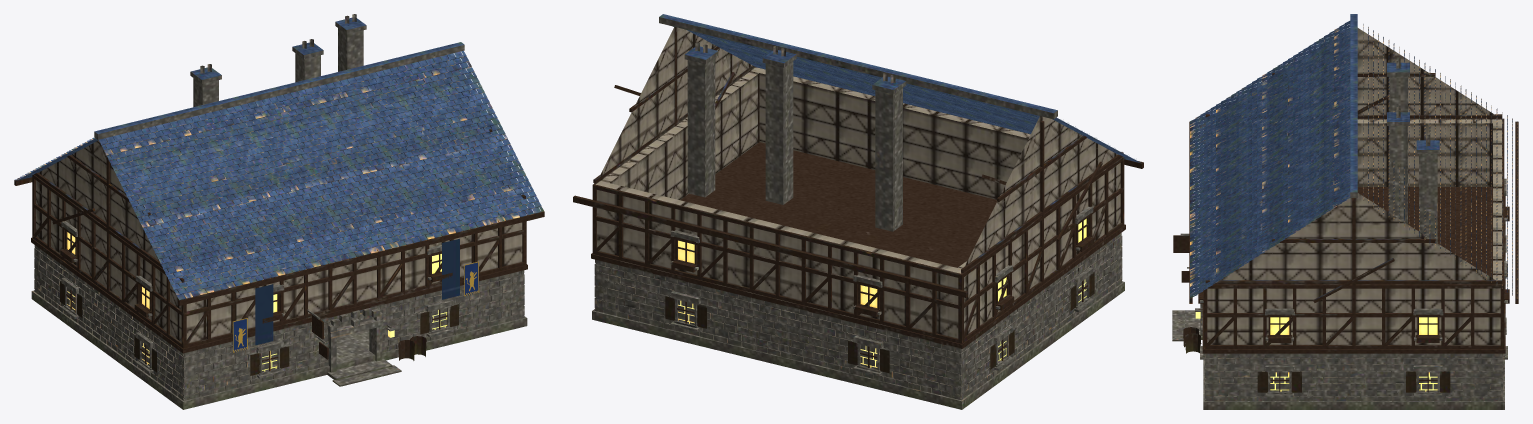
The model's file is bld_inn_card.glb.
The picture shows the model from 3 angles, left to right: view 1: azimuth 30°, elevation 25°; view 2: azimuth 150°, elevation 25°; view 3: azimuth 270°, elevation 25°; orthographic projection. The views are drawn at different scales.
Parts seen in each view (by area): view 1: inn_card; view 2: inn_card; view 3: inn_card.
Boxes of the visible parts, x1=… form: inn_card: x1=14, y1=14, x2=544, y2=409; inn_card: x1=573, y1=14, x2=1143, y2=409; inn_card: x1=1172, y1=14, x2=1518, y2=409.
Bounding box in the file's own units: 38.76 × 21.77 × 28.27.
Materials: 1 (1 with a texture image).
